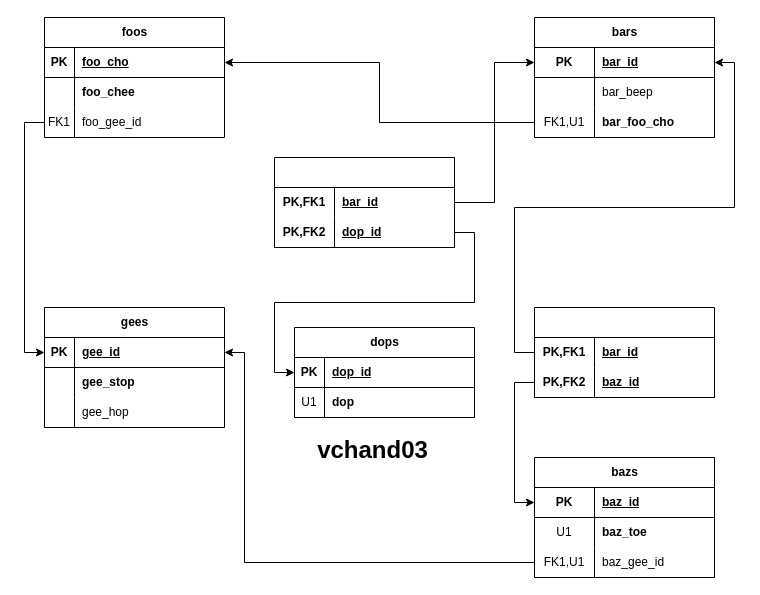
Image size: 760x595. Some labels were removed from this diagram. Here are the shapes that lost their labels. From the top down, the box of each, then its label:
(274, 156, 454, 248): bars_dops
(534, 306, 714, 398): bars_bazs
